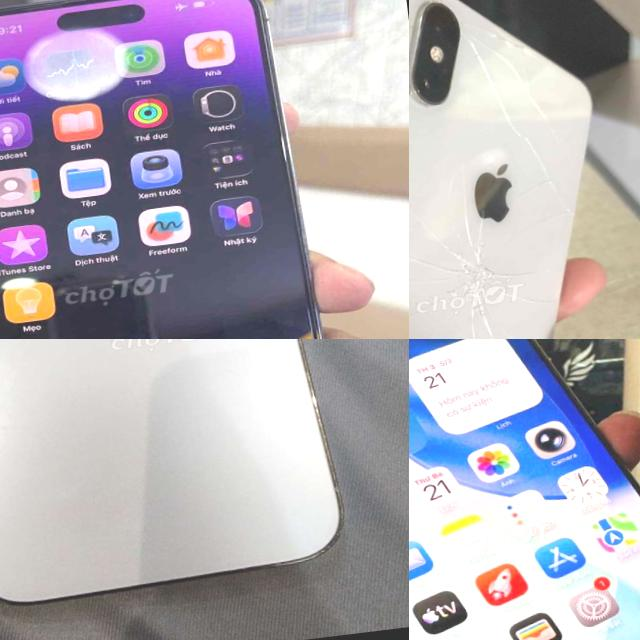physical_damage: (409, 0, 589, 339)
